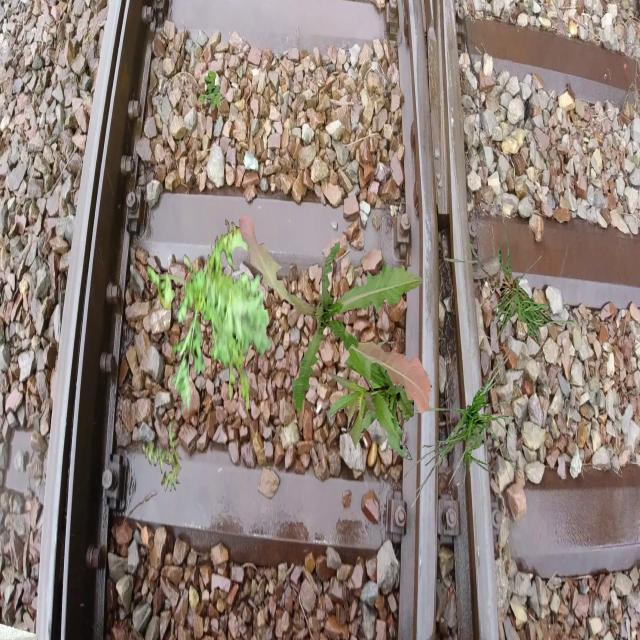Plant: (239, 213, 432, 416), (147, 220, 272, 416), (404, 346, 522, 510), (444, 228, 588, 348), (326, 331, 414, 461), (141, 421, 182, 492), (199, 70, 223, 111)
